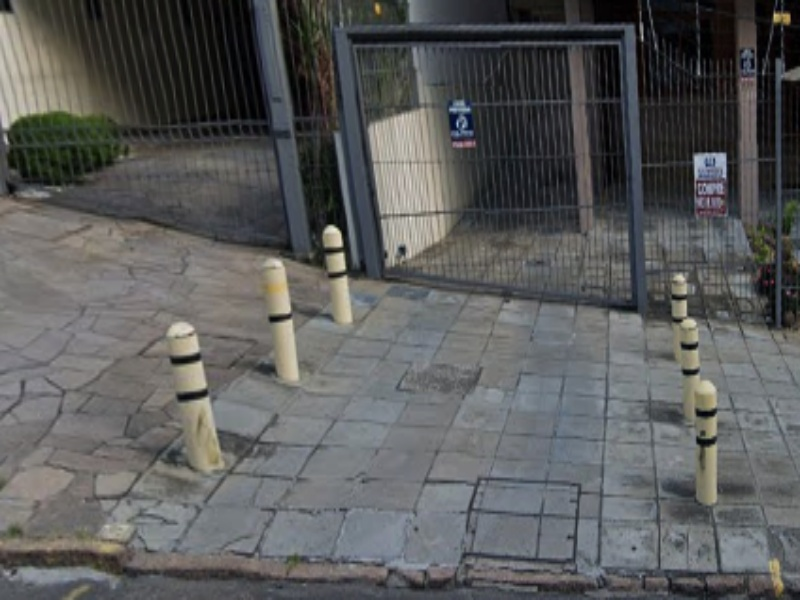g39: (155, 496, 725, 600)
